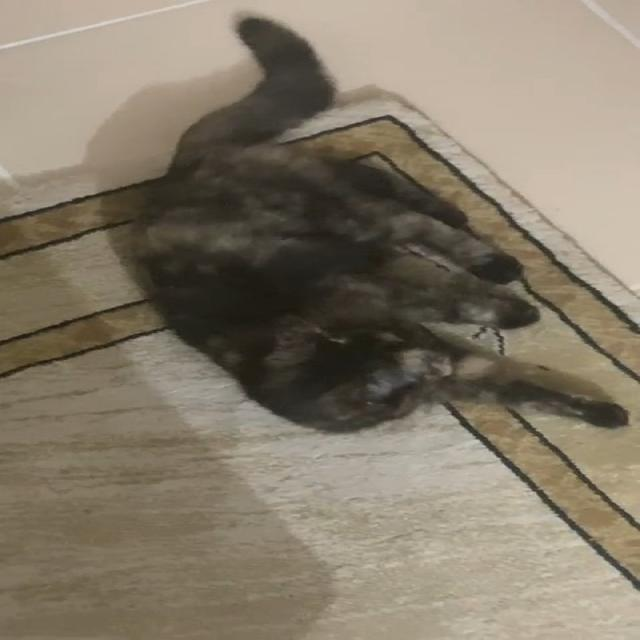authorized: (115, 12, 629, 435)
